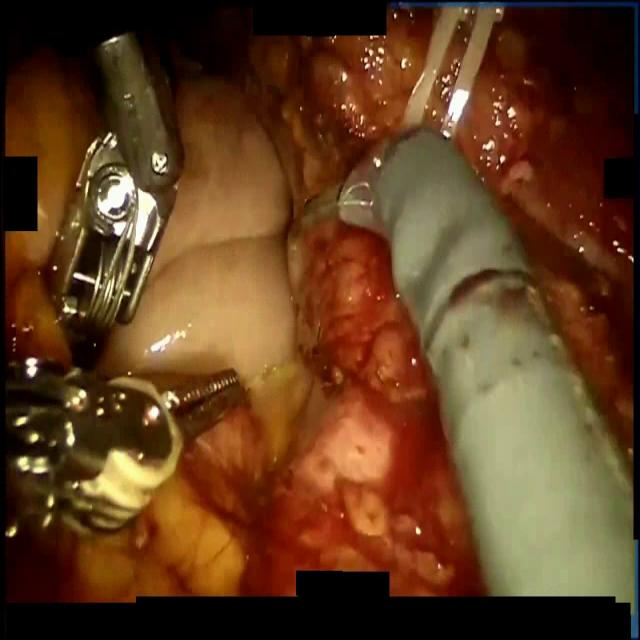surgical-area: (3, 3, 634, 602)
surgical-tool: (302, 127, 640, 612), (46, 23, 184, 369), (2, 361, 242, 540)
